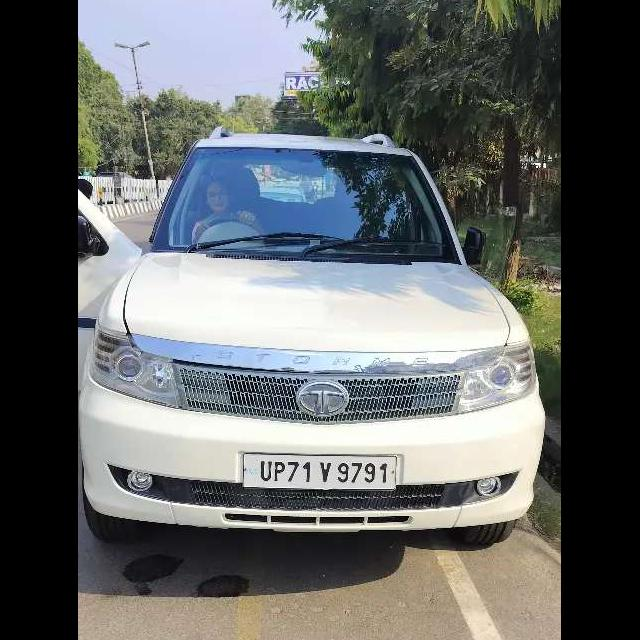Indian_Number_Plate: (241, 451, 400, 492)
